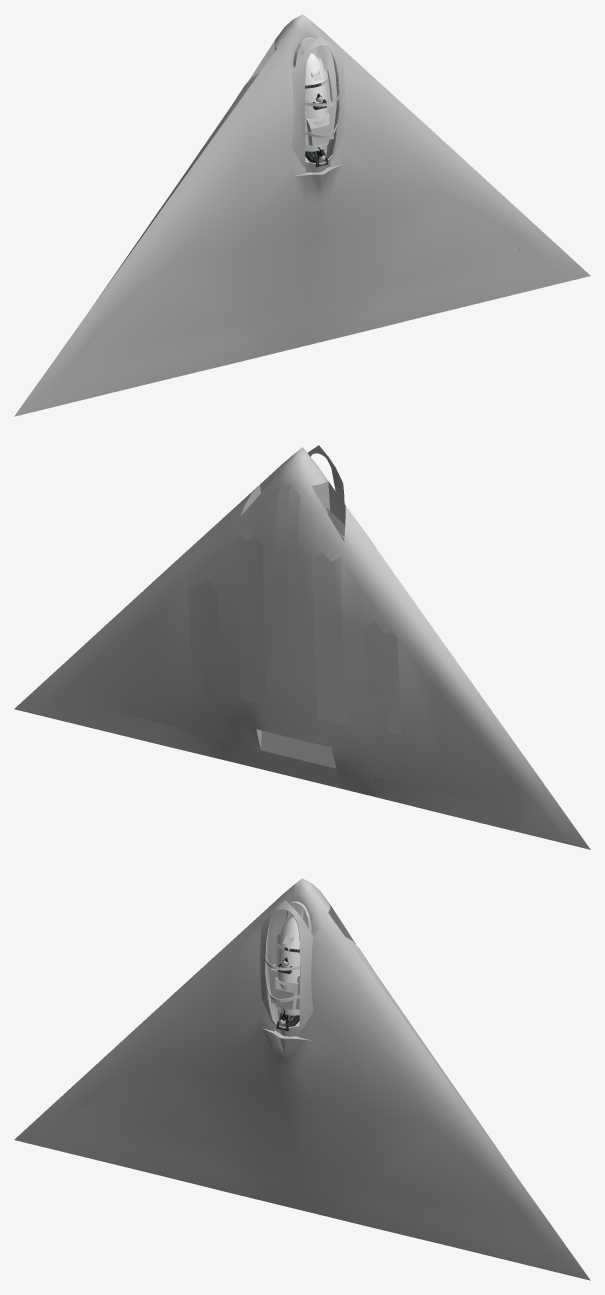
The model's file is A-12_Avenger_II.obj.
3 views of the same model, one above another, from view 1: azimuth 30°, elevation 25°; view 2: azimuth 150°, elevation 25°; view 3: azimuth 330°, elevation 25° (orthographic).
Visible parts, largest first — view 1: LOD0, BrakeL01, BrakeR01, AileronL01, AileronR01, Canopy01, ElevatorL01, Glass_Canopy01; view 2: LOD0, x_BombBayL01, x_BombBayR01, AileronL01, AileronR01, ElevatorL01; view 3: LOD0, BrakeR01, BrakeL01, AileronR01, AileronL01, Canopy01, ElevatorL01, Glass_Canopy01.
Part boxes in pixels (left/top/right/bottom): LOD0: left=14, top=14, right=590, bottom=416; BrakeL01: left=87, top=319, right=231, bottom=376; BrakeR01: left=378, top=247, right=519, bottom=306; AileronL01: left=86, top=343, right=230, bottom=398; AileronR01: left=377, top=271, right=519, bottom=328; Canopy01: left=291, top=36, right=344, bottom=172; ElevatorL01: left=265, top=316, right=342, bottom=355; Glass_Canopy01: left=305, top=53, right=329, bottom=151; LOD0: left=14, top=447, right=590, bottom=849; x_BombBayL01: left=312, top=552, right=347, bottom=724; x_BombBayR01: left=237, top=530, right=266, bottom=705; AileronL01: left=373, top=777, right=518, bottom=832; AileronR01: left=85, top=705, right=228, bottom=761; ElevatorL01: left=261, top=750, right=340, bottom=788; LOD0: left=14, top=878, right=590, bottom=1280; BrakeR01: left=373, top=1183, right=517, bottom=1240; BrakeL01: left=85, top=1111, right=226, bottom=1170; AileronR01: left=374, top=1207, right=518, bottom=1262; AileronL01: left=85, top=1135, right=227, bottom=1192; Canopy01: left=260, top=900, right=313, bottom=1036; ElevatorL01: left=262, top=1180, right=339, bottom=1219; Glass_Canopy01: left=275, top=917, right=299, bottom=1015.
Size of the model in its own units: 21.22 by 11.68 by 2.68.
